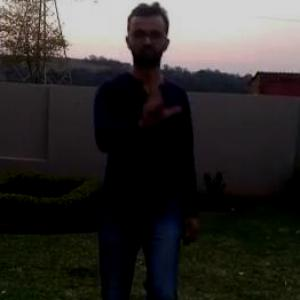land_hand: (126, 58, 181, 128)
